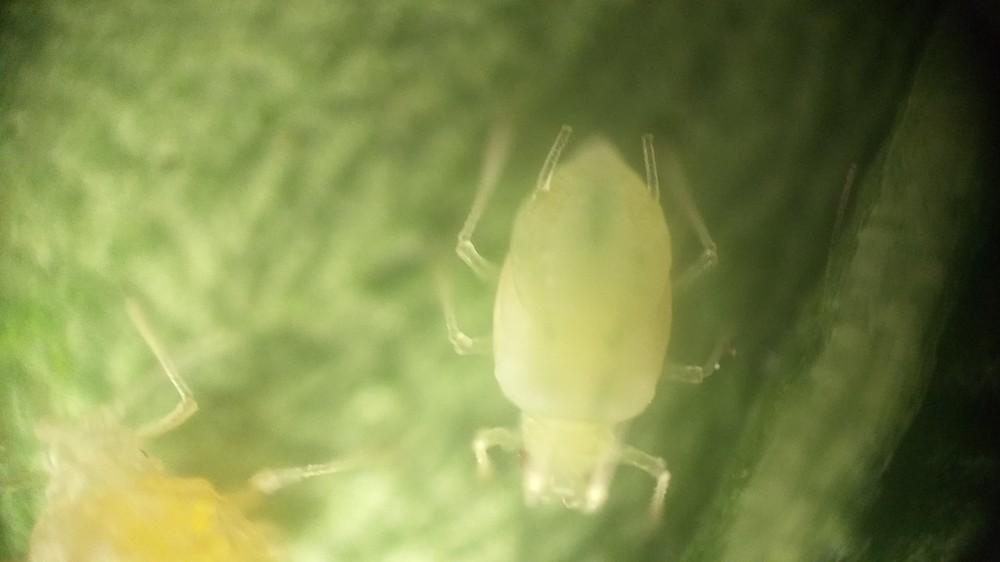Pulgon: (404, 114, 758, 544)
